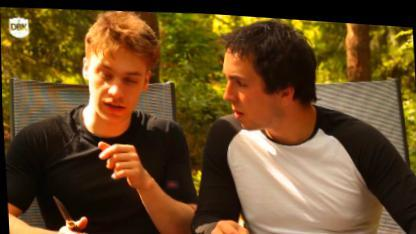knife: (42, 186, 97, 233)
